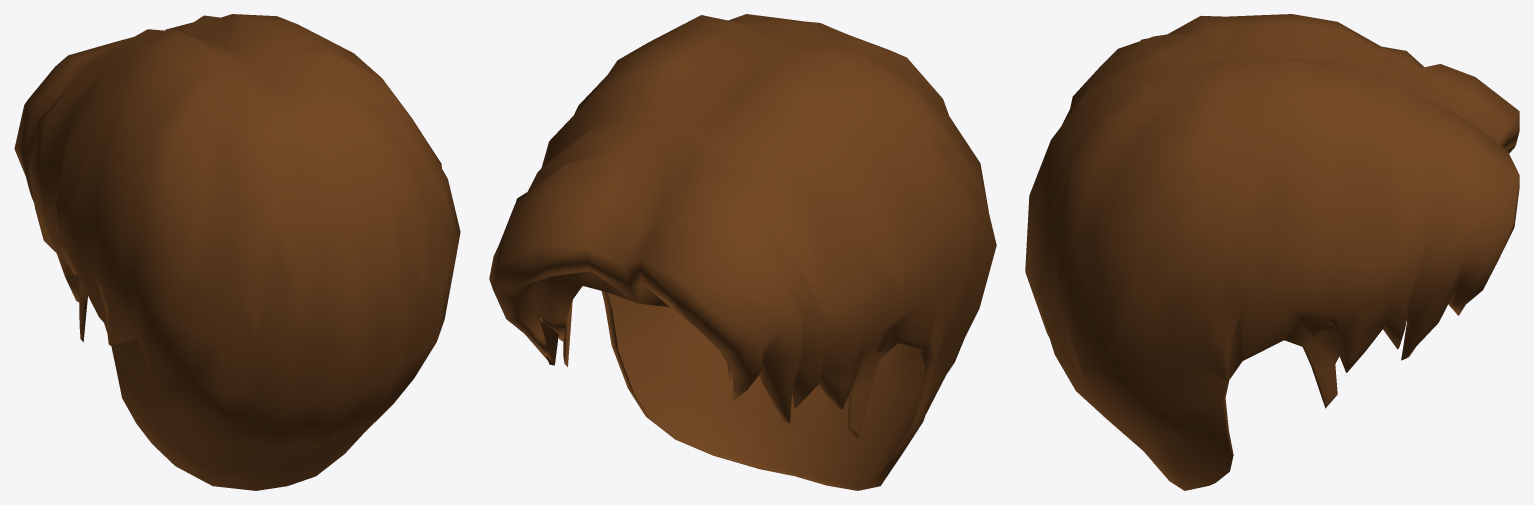
Rendered from Hair_Male_006.glb.
The picture shows the model from 3 angles, left to right: view 1: azimuth 30°, elevation 25°; view 2: azimuth 150°, elevation 25°; view 3: azimuth 270°, elevation 25°; orthographic projection. The views are drawn at different scales.
Visible parts, largest first — view 1: Hair_Male_006; view 2: Hair_Male_006; view 3: Hair_Male_006.
Boxes of the visible parts, x1,y1,x2,y2 form: Hair_Male_006: [14, 14, 460, 490]; Hair_Male_006: [489, 14, 996, 490]; Hair_Male_006: [1025, 14, 1519, 490].
Size of the model in its own units: 0.195 by 0.2308 by 0.2425.
